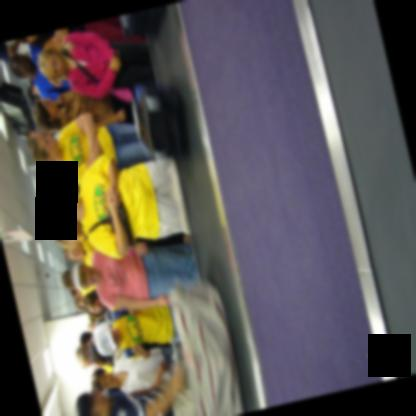backpack: (169, 273, 248, 416), (137, 90, 189, 156), (111, 306, 172, 357)
handbag: (87, 202, 133, 247), (109, 87, 132, 102)
suitcase: (168, 275, 246, 416), (120, 6, 160, 39)
